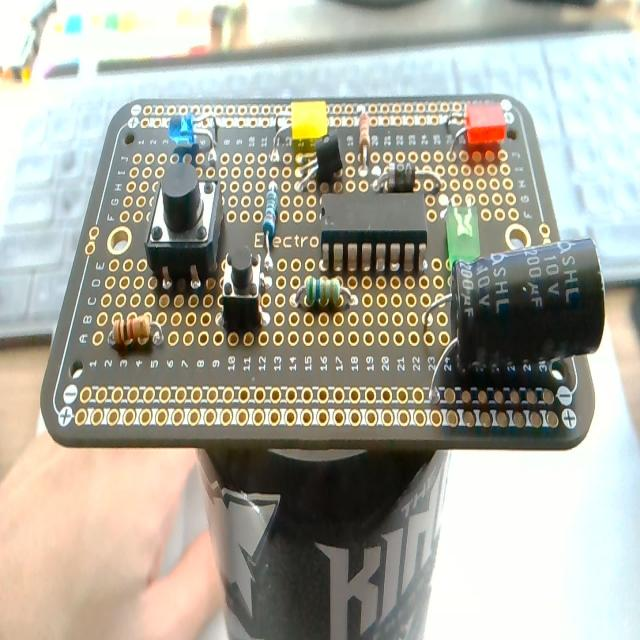Electrolytic capacitor: (424, 230, 606, 408)
IC: (321, 186, 428, 272)
diode: (372, 162, 434, 194)
led: (448, 101, 506, 158), (446, 202, 482, 274), (168, 110, 213, 163), (292, 98, 328, 146)
resistor: (293, 276, 358, 312), (107, 314, 163, 350), (261, 179, 277, 268), (358, 110, 370, 164)
switch: (146, 162, 224, 290), (220, 248, 265, 331)
transistor: (286, 129, 344, 190)
